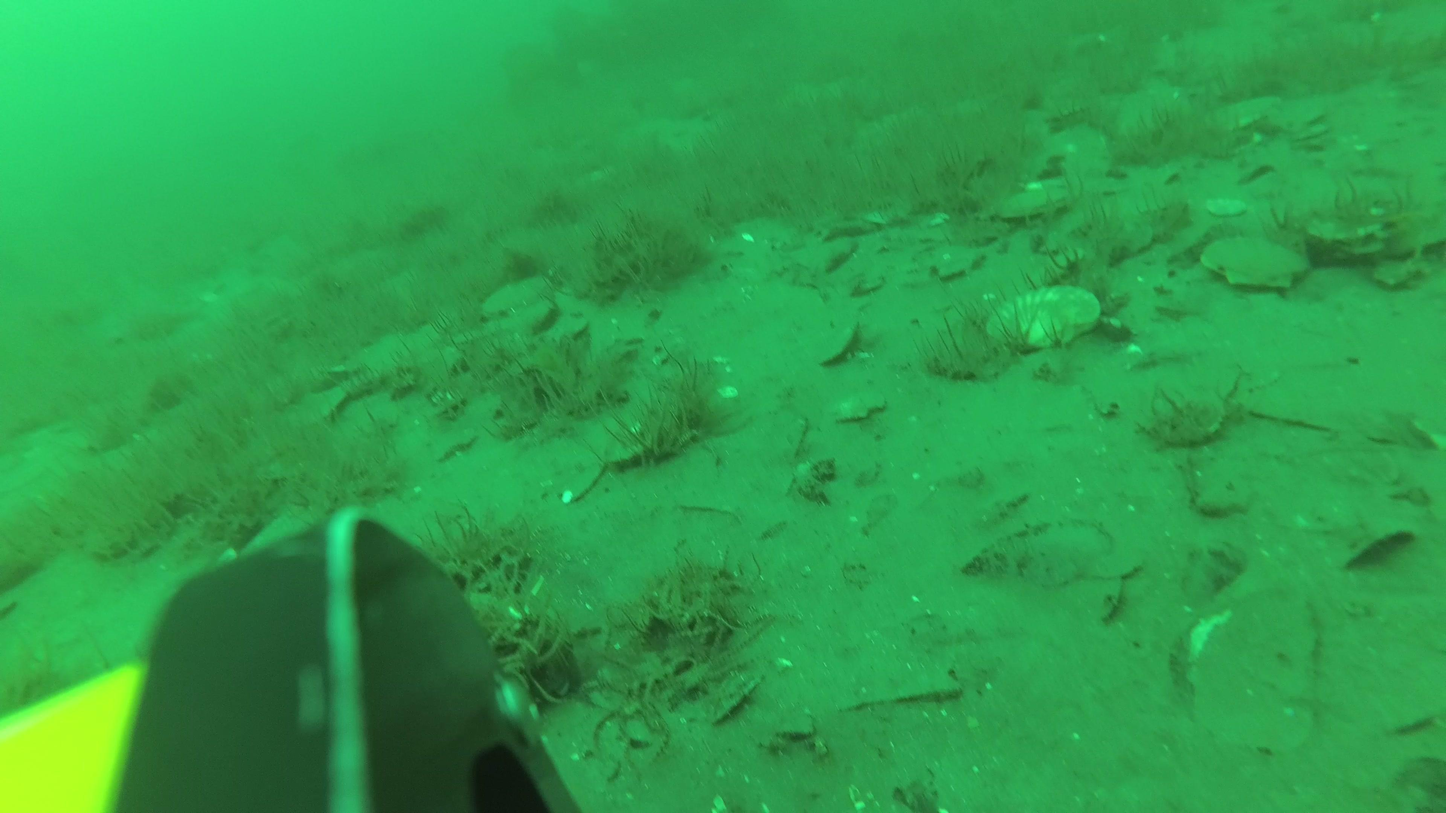scallop: (981, 277, 1106, 356), (1197, 227, 1316, 291), (479, 269, 557, 323), (988, 180, 1077, 225), (1209, 93, 1284, 136), (825, 386, 890, 425)
